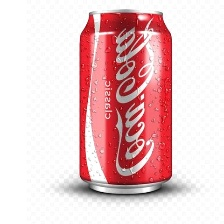can: (75, 7, 176, 197)
